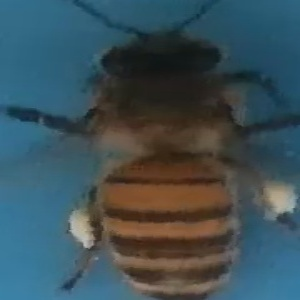bee: (33, 4, 295, 300)
